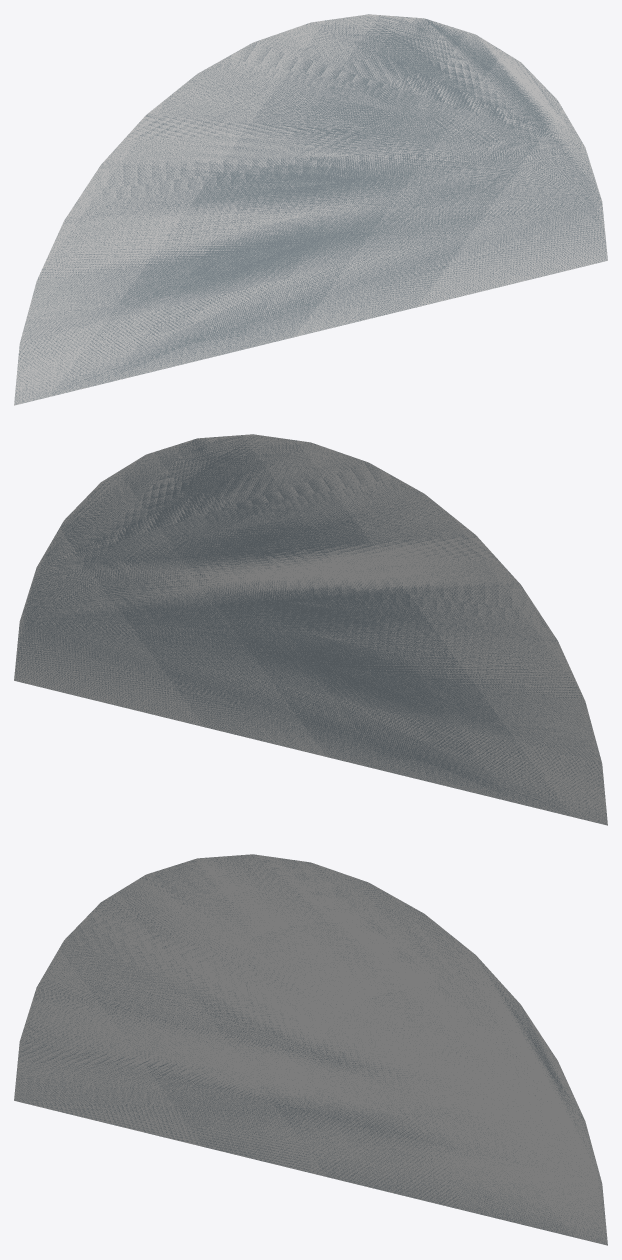
The model's file is Hemi_round_32.obj.
3 renders of one model, top to bottom at view 1: azimuth 30°, elevation 25°; view 2: azimuth 150°, elevation 25°; view 3: azimuth 330°, elevation 25°, orthographic.
Parts seen in each view (by area): view 1: Mesh1 Model; view 2: Mesh1 Model; view 3: Mesh1 Model.
Boxes of the visible parts, bbox=[...] form: Mesh1 Model: bbox=[14, 14, 607, 405]; Mesh1 Model: bbox=[14, 434, 607, 825]; Mesh1 Model: bbox=[14, 854, 607, 1245].
Size of the model in its own units: 2.28 by 1.14 by 0.
